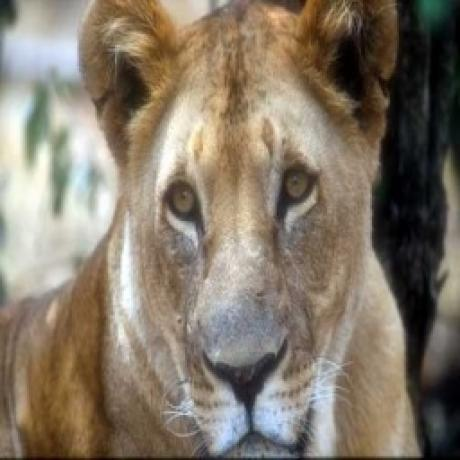Lion: (0, 0, 428, 460)
